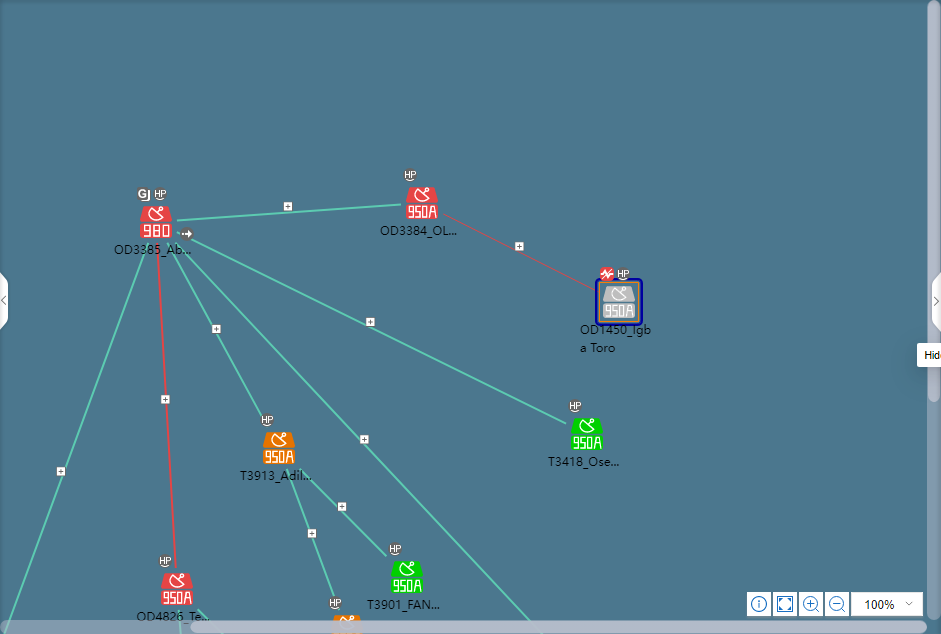Link_Blue: (173, 238, 537, 624), (182, 232, 572, 423), (3, 243, 146, 629), (168, 243, 266, 424), (285, 467, 348, 613), (297, 467, 387, 557), (173, 202, 391, 224), (197, 608, 212, 624)
Link_Red: (450, 214, 593, 295), (156, 264, 176, 571)
RTN_Gray: (597, 285, 635, 318)
RTN_Green: (573, 420, 607, 454), (391, 561, 425, 595)
RTN_Orange: (262, 432, 296, 464)
RTN_Red: (162, 573, 196, 607), (138, 208, 171, 242), (409, 185, 443, 218)
